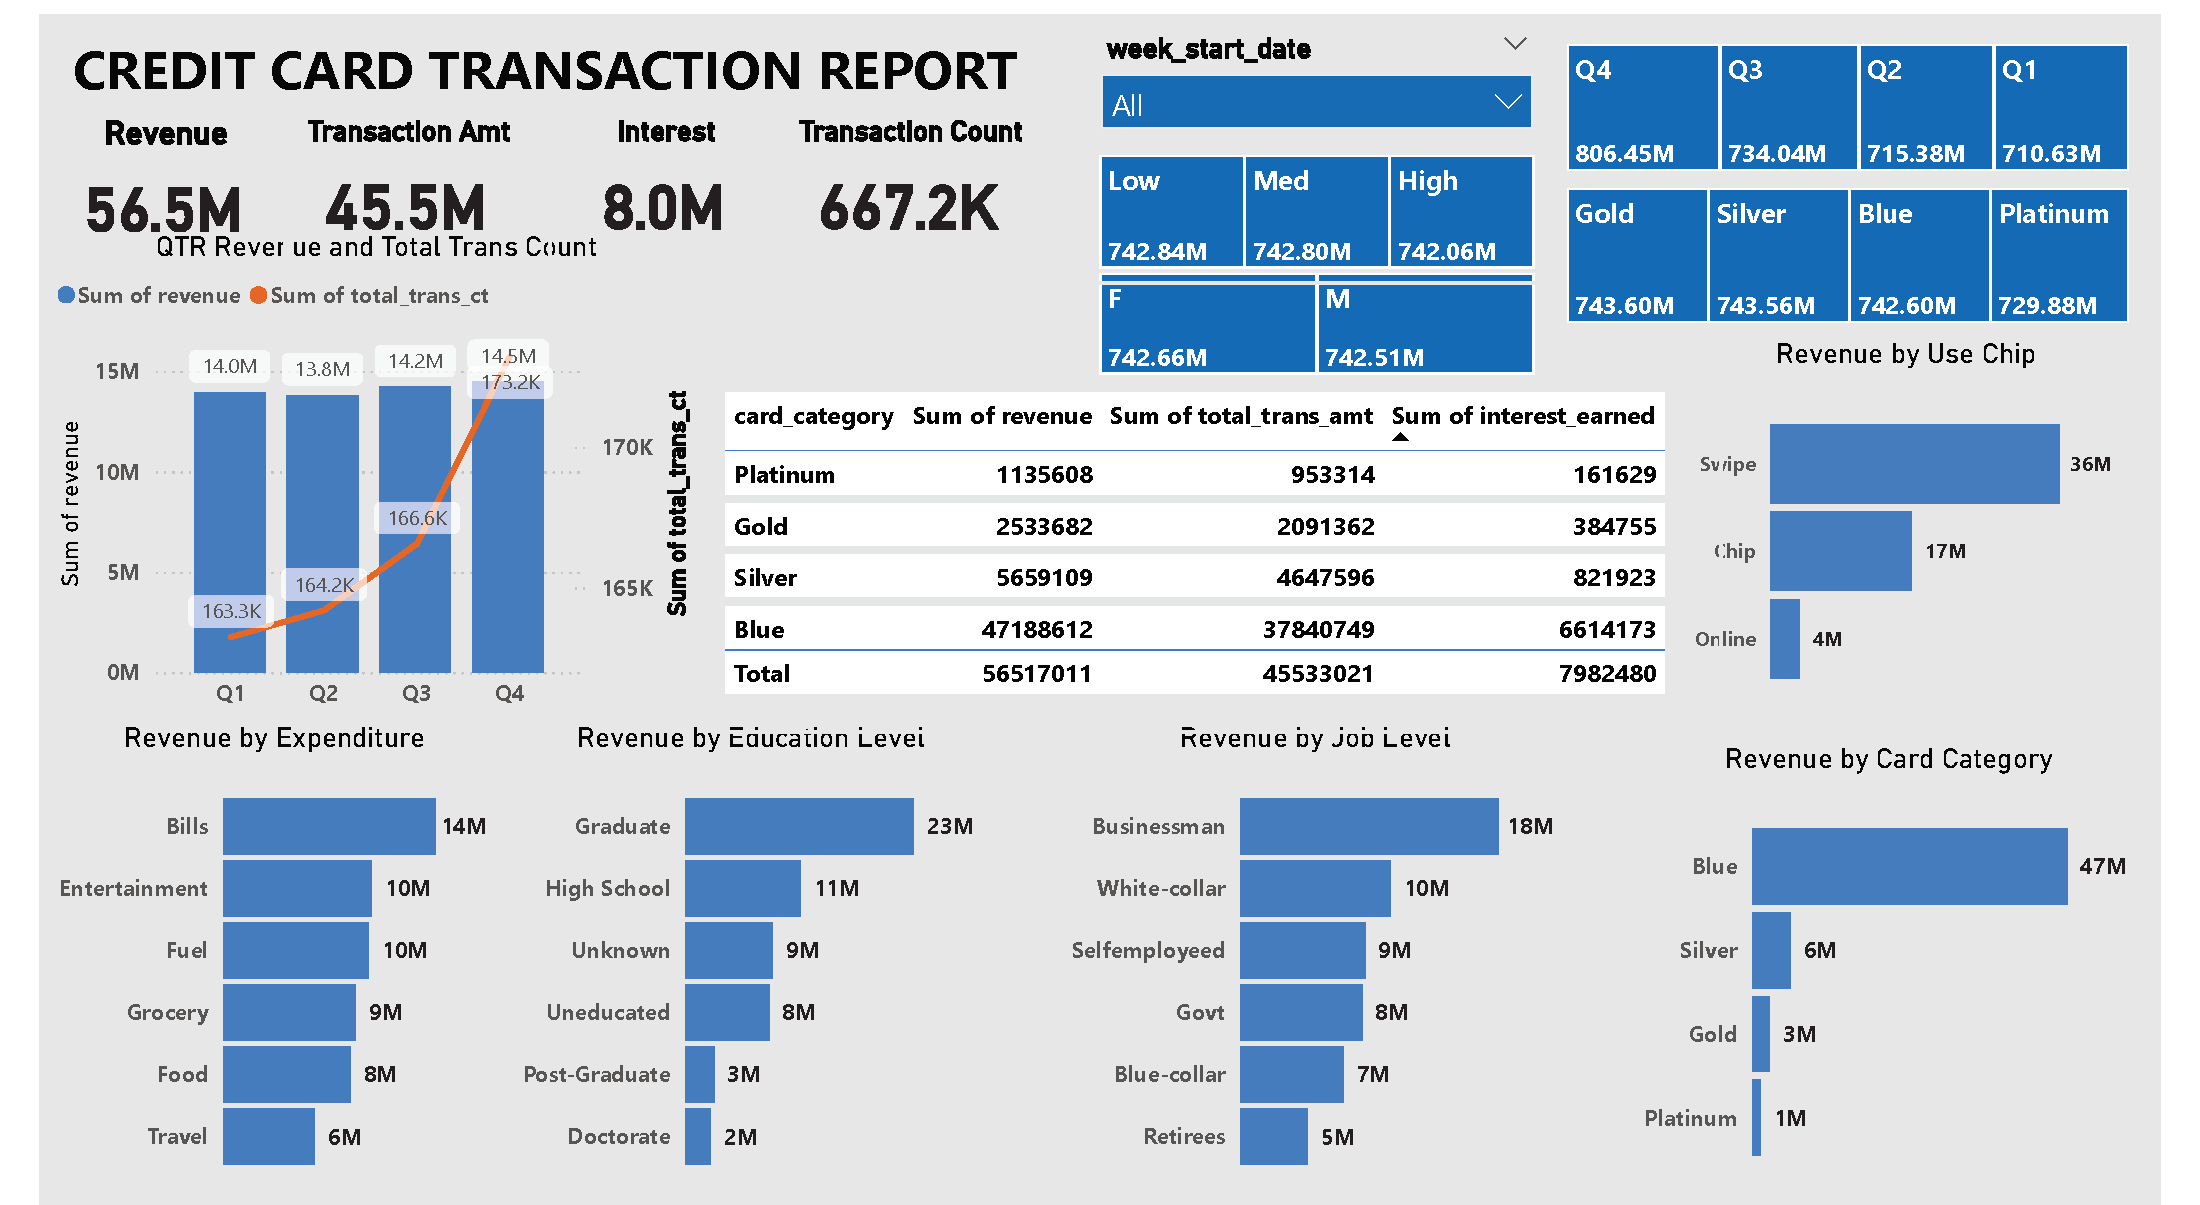

Layout of this report page (visuals, bound fields, positions):
{"tool":"powerbi","page":{"name":"Credit_Card_Transaction","canvas":[1280,720],"ordinal":1},"visuals":[{"type":"textbox","box":[9.7,0,620.1,74.6],"z":0},{"type":"lineStackedColumnComboChart","title":"QTR Revenue and Total Trans Count","fields":{"Category":["public cc_detail.qtr"],"Y":["Sum(public cc_detail.revenue)"],"Y2":["Sum(public cc_detail.total_trans_ct)"]},"box":[0,125.5,403,308.8],"z":1000},{"type":"barChart","title":"Revenue by Expenditure","fields":{"Y":["Sum(public cc_detail.revenue)"],"Category":["public cc_detail.exp_type"]},"box":[0,421.2,280.4,298.3],"z":2000},{"type":"barChart","title":"Revenue by Education Level","fields":{"Y":["Sum(public cc_detail.revenue)"],"Category":["public cust_detail.education_level"]},"box":[280.4,421.2,294.2,298.3],"z":3000},{"type":"barChart","title":"Revenue by Job Level","fields":{"Y":["Sum(public cc_detail.revenue)"],"Category":["public cust_detail.customer_job"]},"box":[611.8,421.2,312.1,298.3],"z":4000},{"type":"barChart","title":"Revenue by Card Category","fields":{"Y":["Sum(public cc_detail.revenue)"],"Category":["public cc_detail.card_category"]},"box":[956.7,434.3,314.9,285.9],"z":5000},{"type":"barChart","title":"Revenue by Use Chip","fields":{"Y":["Sum(public cc_detail.revenue)"],"Category":["public cc_detail.use_chip"]},"box":[988.1,189.4,272.7,243.7],"z":6000},{"type":"tableEx","fields":{"Values":["public cc_detail.card_category","Sum(public cc_detail.revenue)","Sum(public cc_detail.total_trans_amt)","Sum(public cc_detail.interest_earned)"]},"box":[403.3,218.2,613.2,215.5],"z":7000},{"type":"card","title":"Revenue","fields":{"Values":["Sum(public cc_detail.revenue)"]},"box":[0,55.2,149.2,96.7],"z":8000},{"type":"card","title":"Transaction Amt","fields":{"Values":["Sum(public cc_detail.total_trans_amt)"]},"box":[149.2,55.2,143.6,96.7],"z":9000},{"type":"card","title":"Interest","fields":{"Values":["Sum(public cc_detail.interest_earned)"]},"box":[306.6,55.2,139.5,96.7],"z":10000},{"type":"card","title":"Transaction Count","fields":{"Values":["Sum(public cc_detail.total_trans_ct)"]},"box":[446.1,55.2,156.1,96.7],"z":11000},{"type":"slicer","fields":{"Values":["public cc_detail.week_start_date"]},"box":[626.1,0,289.5,74.8],"z":12000},{"type":"treemap","fields":{"Group":["public cc_detail.qtr"],"Values":["Avg(public cc_detail.client_num)"]},"box":[911.5,8.3,359.1,95.3],"z":13000},{"type":"treemap","fields":{"Values":["Avg(public cc_detail.client_num)"],"Group":["public cust_detail.gender"]},"box":[629.8,146,282.3,80.8],"z":14000},{"type":"treemap","fields":{"Values":["Avg(public cc_detail.client_num)"],"Group":["public cc_detail.card_category"]},"box":[911.5,95.3,359.1,100.8],"z":15000},{"type":"treemap","fields":{"Values":["Avg(public cc_detail.client_num)"],"Group":["public cust_detail.IncomeGroup"]},"box":[629.8,74.8,282.3,88.1],"z":16000}]}

Visuals, with their boxes in screenshot pixels (x1, y1, x2, y2), scaled from the page's 1280x720 canvas onto the 2200x1205 screenshot:
textbox: detection(17, 0, 1082, 125)
"QTR Revenue and Total Trans Count" lineStackedColumnComboChart: detection(0, 210, 693, 727)
"Revenue by Expenditure" barChart: detection(0, 705, 482, 1204)
"Revenue by Education Level" barChart: detection(482, 705, 988, 1204)
"Revenue by Job Level" barChart: detection(1052, 705, 1588, 1204)
"Revenue by Card Category" barChart: detection(1644, 727, 2186, 1204)
"Revenue by Use Chip" barChart: detection(1698, 317, 2167, 725)
tableEx - public cc_detail.card_category x Sum(public cc_detail.revenue): detection(693, 365, 1747, 726)
"Revenue" card: detection(0, 92, 256, 254)
"Transaction Amt" card: detection(256, 92, 503, 254)
"Interest" card: detection(527, 92, 767, 254)
"Transaction Count" card: detection(767, 92, 1035, 254)
slicer - public cc_detail.week_start_date: detection(1076, 0, 1574, 125)
treemap - public cc_detail.qtr x Avg(public cc_detail.client_num): detection(1567, 14, 2184, 173)
treemap - Avg(public cc_detail.client_num) x public cust_detail.gender: detection(1082, 244, 1568, 380)
treemap - Avg(public cc_detail.client_num) x public cc_detail.card_category: detection(1567, 159, 2184, 328)
treemap - Avg(public cc_detail.client_num) x public cust_detail.IncomeGroup: detection(1082, 125, 1568, 273)
